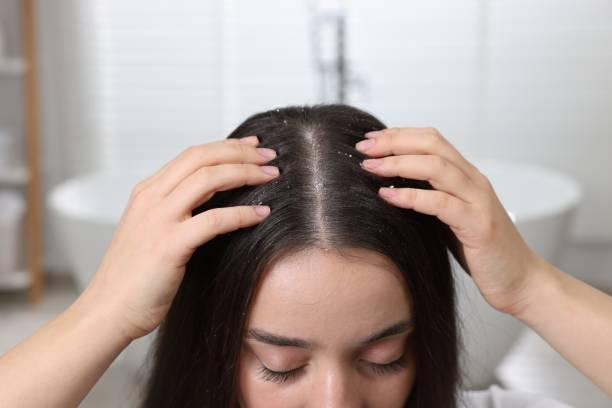dandruff: (337, 142, 361, 166), (369, 221, 389, 237), (283, 179, 296, 193), (276, 115, 289, 129)
